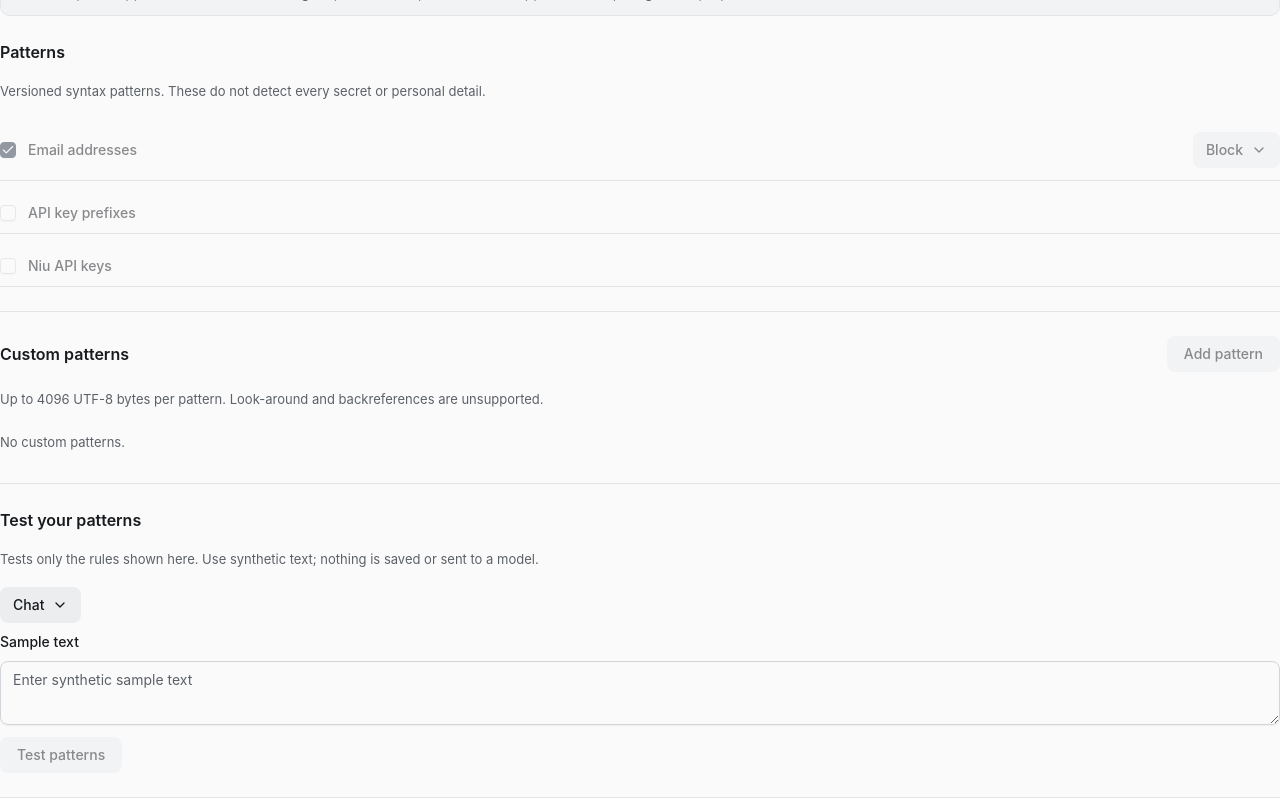
Test: local content controls › keeps saved rules read-only while allowing a reader to test synthetic text
(page scrolled)
Expected: the checkbox named "Email addresses" next to "Email addresses" is disabled, [0,142,16,158]
Expected: the button with aria-label "Email addresses action" is disabled, [1193,132,1279,168]
Type "ordinary text" into the text box labelled "Sample text" at {"x": 640, "y": 693}, box [0,661,1279,725]
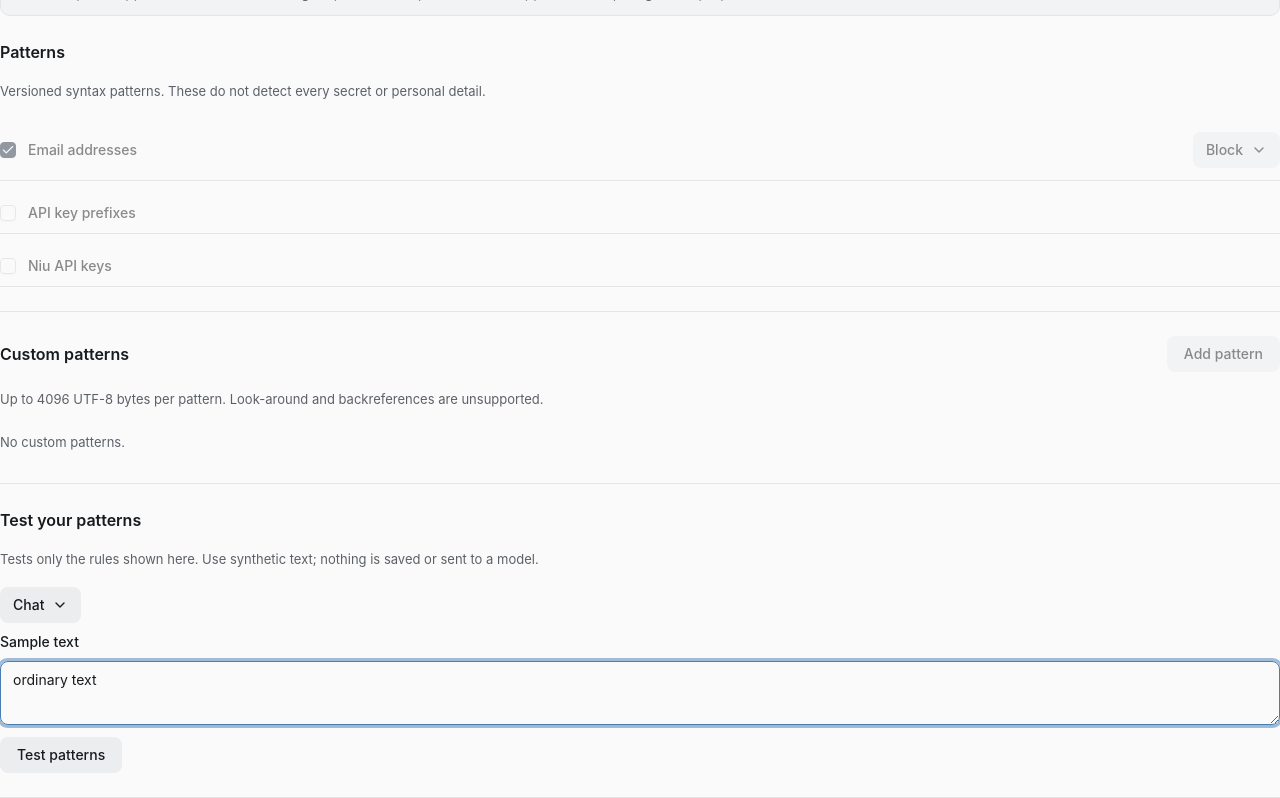
Click the button "Test patterns" at {"x": 61, "y": 755}, box [0,737,122,773]
(page scrolled)
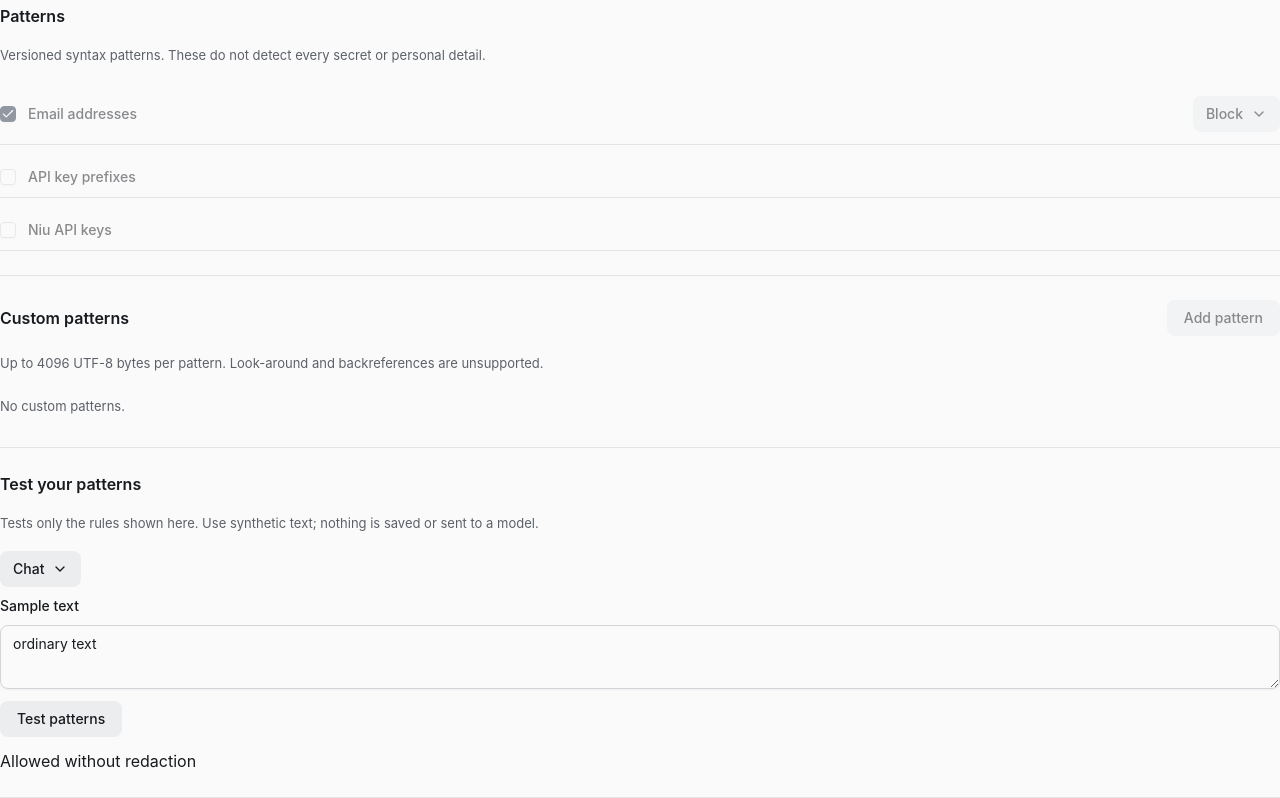
Expected: the text "Allowed without redaction" is shown, [0,751,196,771]
